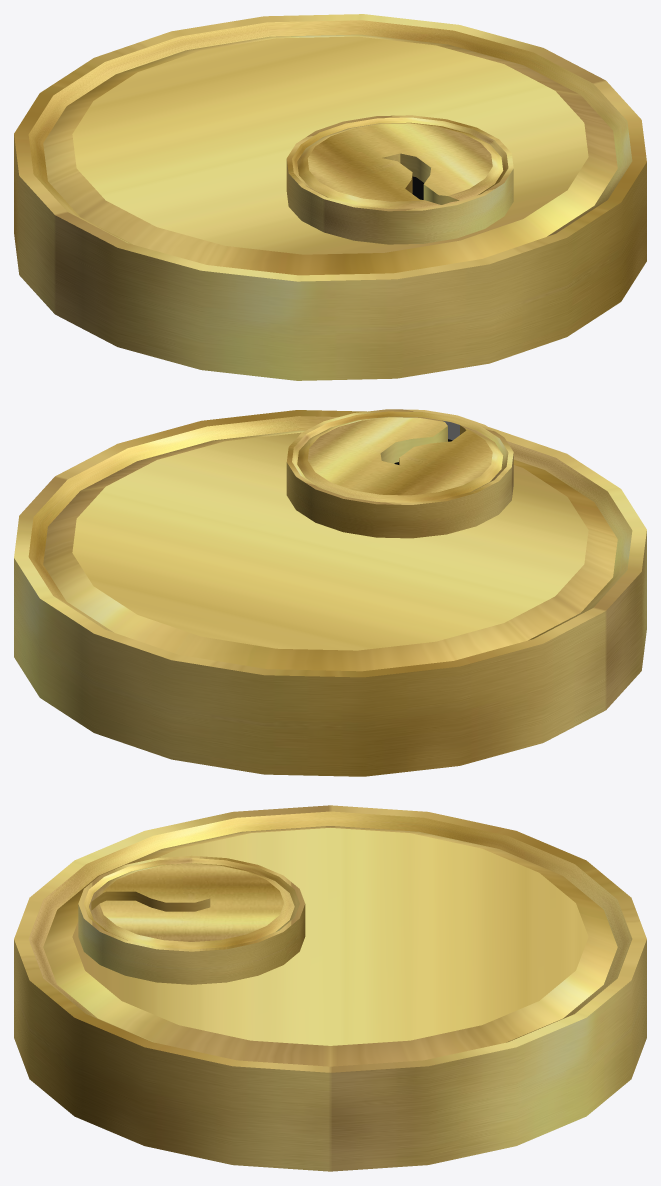
File: Door Lock.fbx
3 views of the same model, one above another, from view 1: azimuth 30°, elevation 25°; view 2: azimuth 150°, elevation 25°; view 3: azimuth 270°, elevation 25° (orthographic).
Visible parts, largest first — view 1: polySurface3; view 2: polySurface3; view 3: polySurface3.
Boxes of the visible parts, <box> form: polySurface3: <box>14,14,646,380</box>; polySurface3: <box>14,409,646,776</box>; polySurface3: <box>14,805,646,1171</box>.
Bounding box in the file's own units: 4.39 × 1.03 × 4.39.
Materials: 3 (1 with a texture image).
